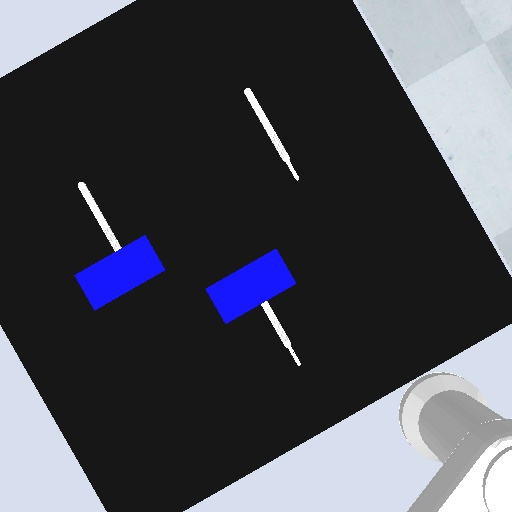bisturi: (241, 84, 303, 183), (74, 177, 124, 257), (256, 297, 303, 370)
